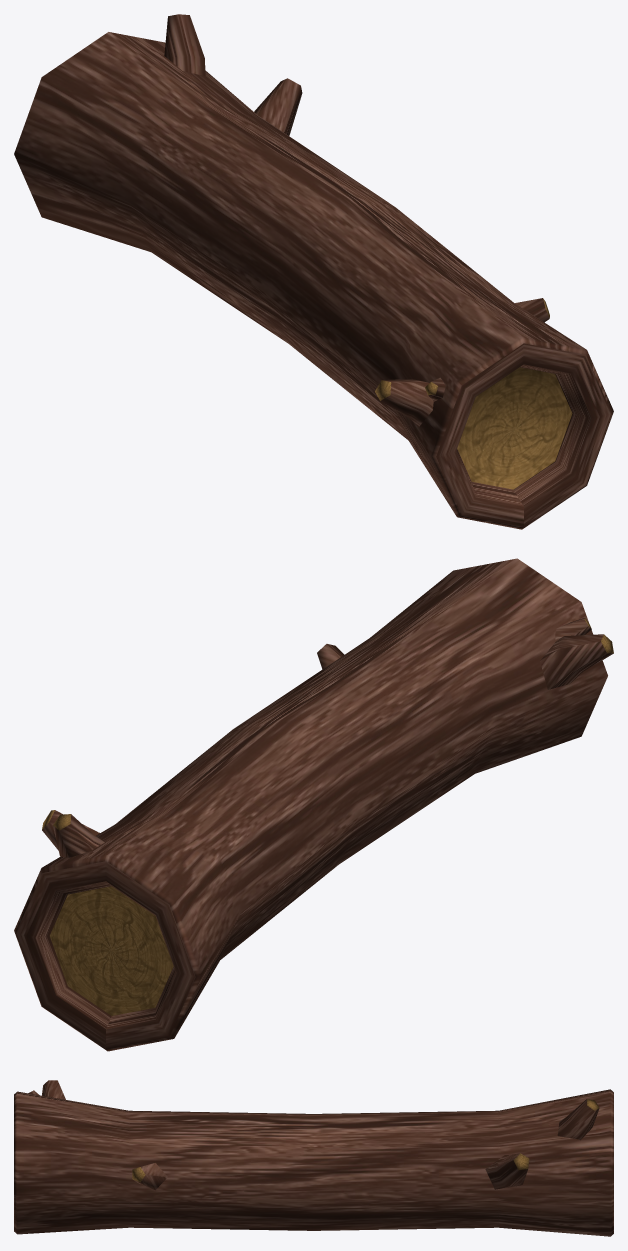
File: Veg_Trunk_01_Art.fbx
3 views of the same model, one above another, from view 1: azimuth 30°, elevation 25°; view 2: azimuth 150°, elevation 25°; view 3: azimuth 270°, elevation 25° (orthographic). The views are drawn at different scales.
Visible parts, largest first — view 1: Veg_Trunk_01; view 2: Veg_Trunk_01; view 3: Veg_Trunk_01.
Boxes of the visible parts, x1,y1,x2,y2 form: Veg_Trunk_01: (14,14,613,529); Veg_Trunk_01: (14,558,613,1051); Veg_Trunk_01: (14,1080,613,1236).
Size of what is drawn, in the model's own units: 135 by 111 by 393.
